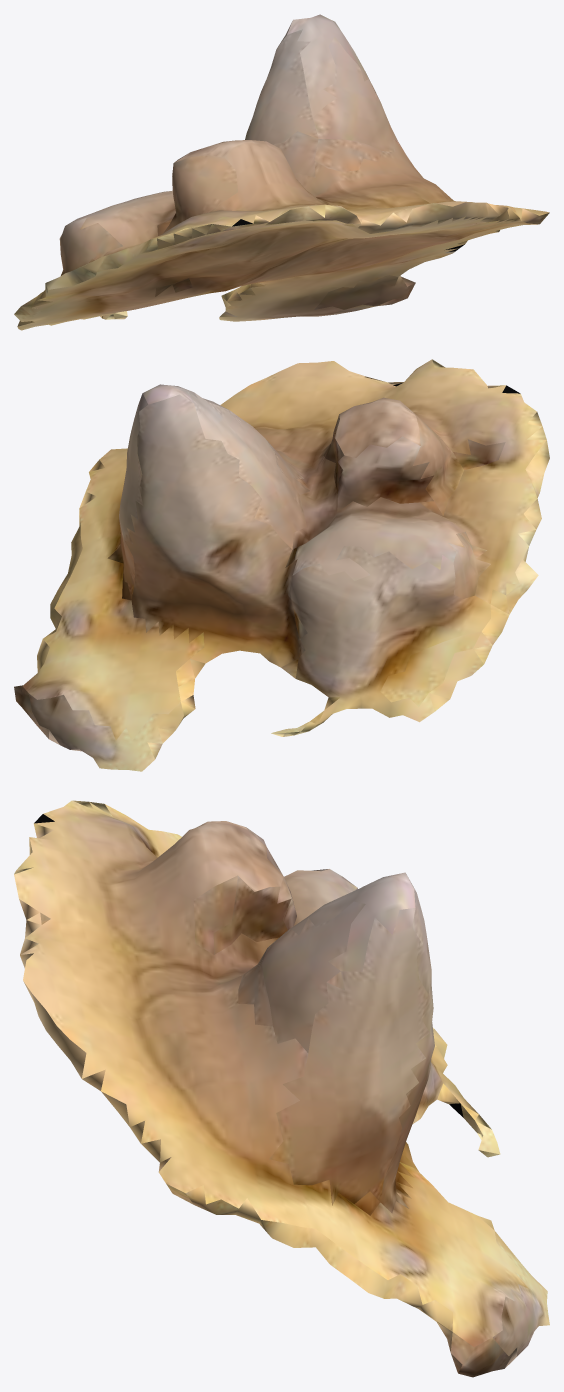
Rendered from cave-rock.glb.
The picture shows the model from 3 angles, top to bottom: view 1: azimuth 30°, elevation 25°; view 2: azimuth 150°, elevation 25°; view 3: azimuth 270°, elevation 25°; orthographic projection. The views are drawn at different scales.
Parts seen in each view (by area): view 1: world; view 2: world; view 3: world.
Part boxes in pixels (x1,y1,x2,y2): world: (14, 14, 549, 330); world: (14, 359, 549, 771); world: (14, 800, 549, 1377).
Size of the model in its own units: 0.8835 by 0.6151 by 0.6777.
1 material, 1 textured.
